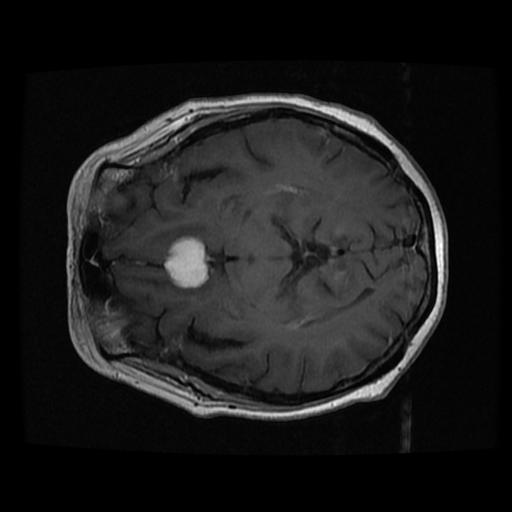meningioma: (162, 237, 210, 289)
